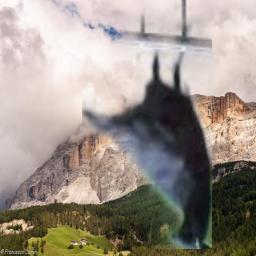Crow: (82, 0, 212, 249)
